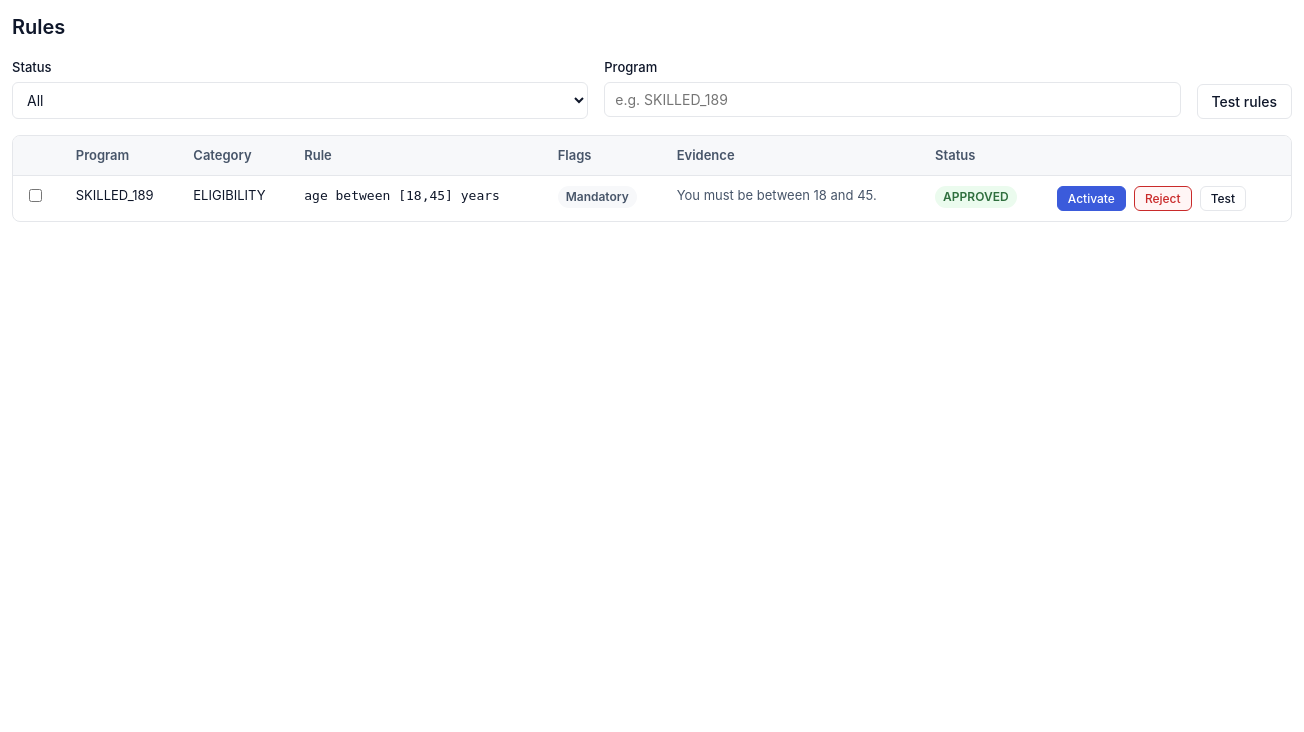
Test case: RulesPage › tests a single rule before activating it
This screenshot has width=1304, height=732.
Click the button "Test".
click(1223, 198)  # box [1200,186,1246,211]
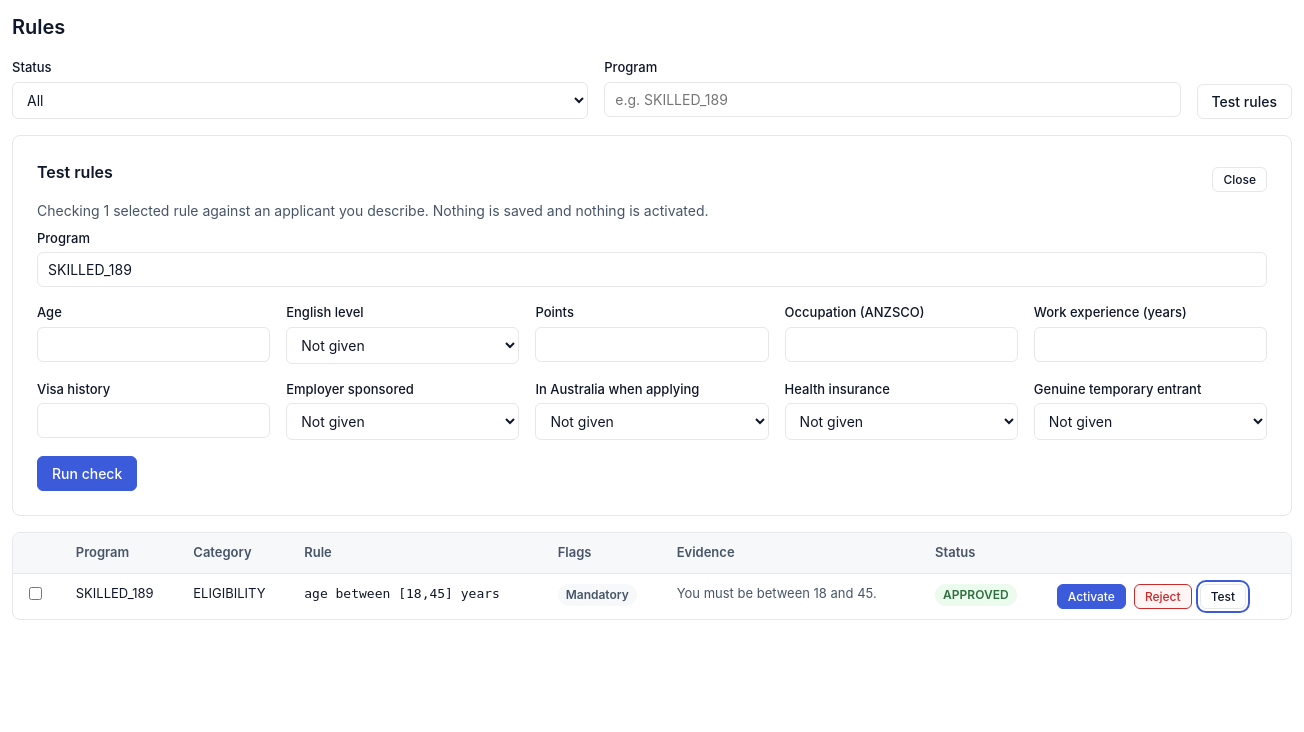
Click the button "Run check".
click(87, 474)  # box [37,456,137,491]
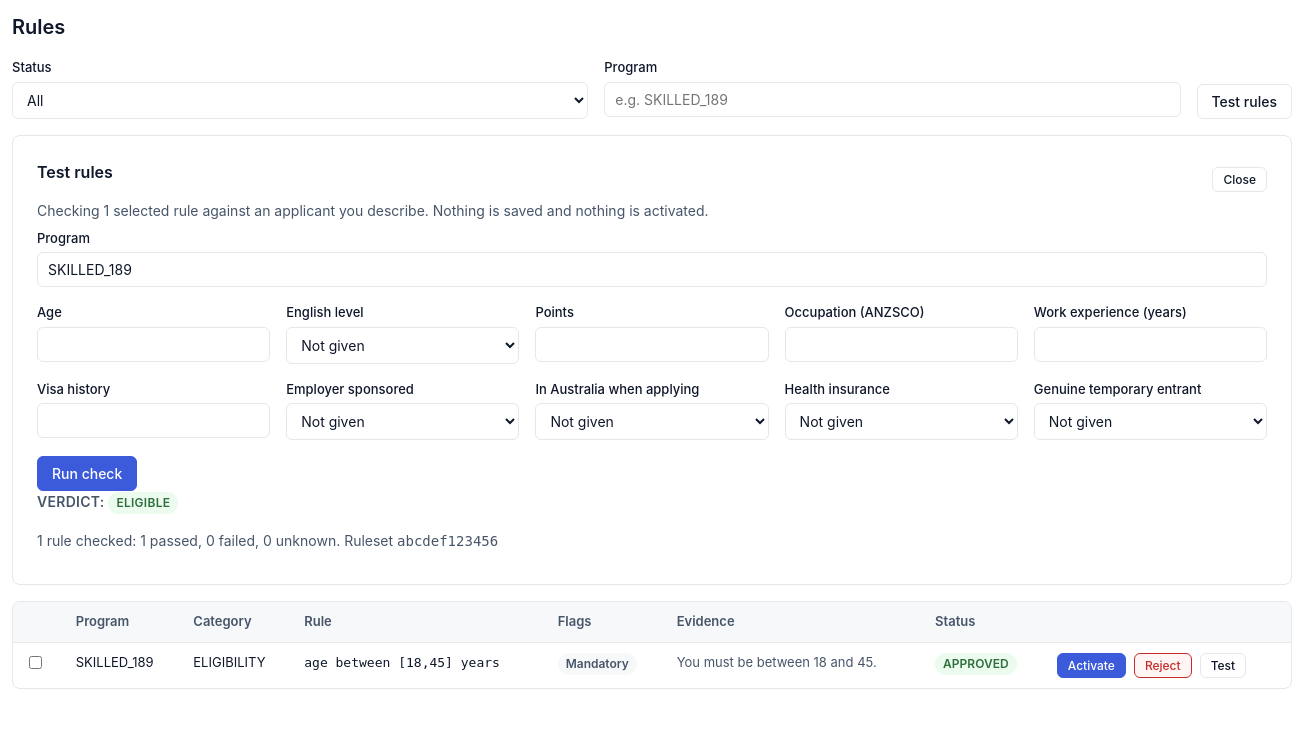
Result: the text "Eligible" is shown at [108,492,178,514]
